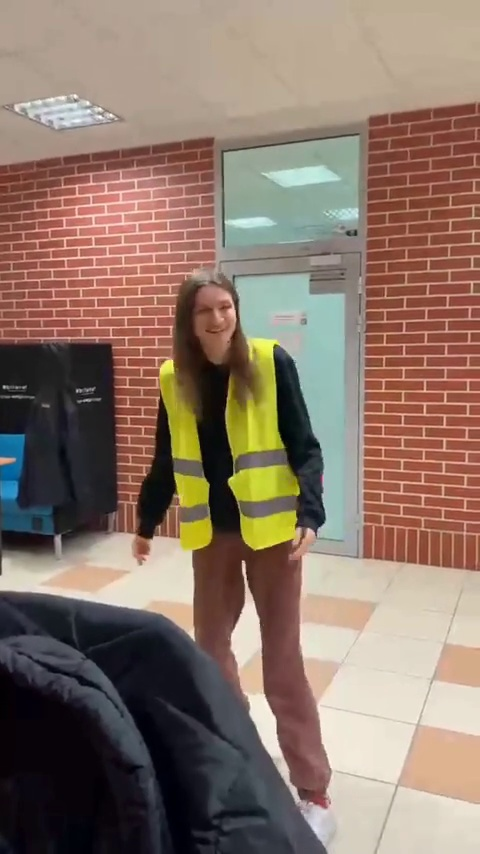vest: (156, 262, 354, 813)
